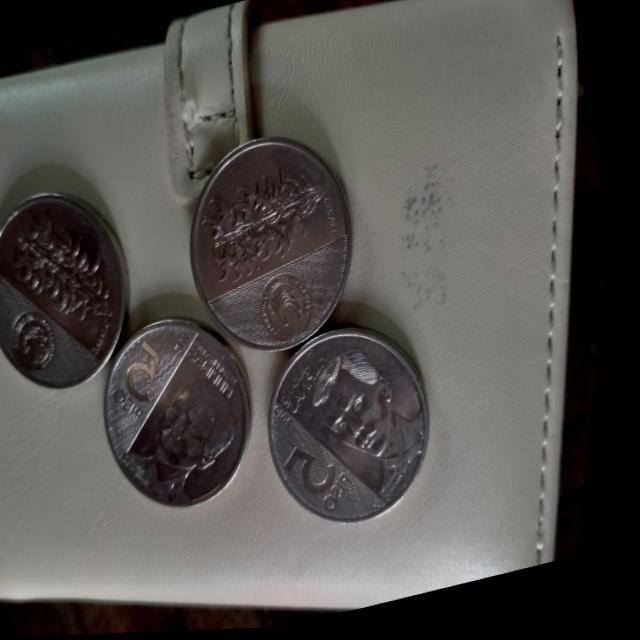5_New_Back: (188, 166, 355, 304)
5_New_Front: (100, 324, 192, 442), (283, 428, 380, 536)
